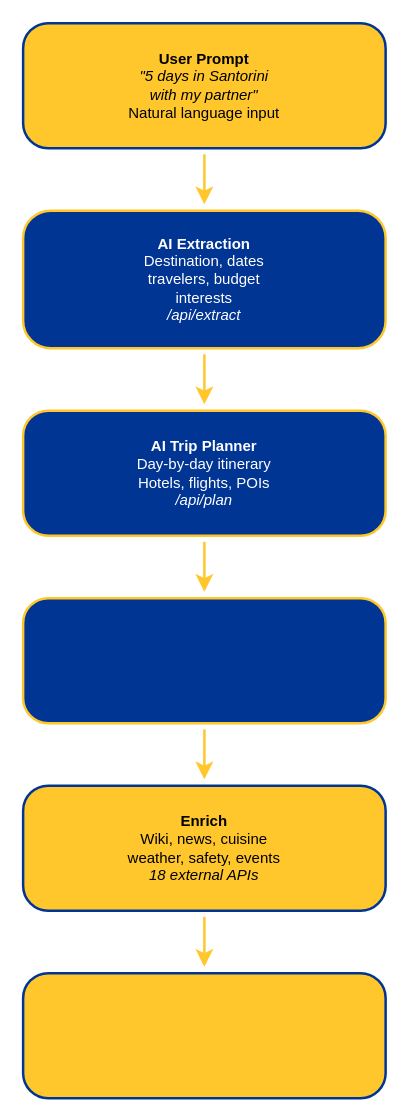
Some shapes in this 408 by 1120 pixel diagram are drawn without their labels. The centre of each missing label's shape, as x and y in pixels:
"Persist Supabase PostgreSQL Auth + RLS + Realtime 20 migrations" goes at [203,660].
"Render Web (Next.js) iOS & Android (Expo) Real-time sync (Yjs)" goes at [203,1035].
